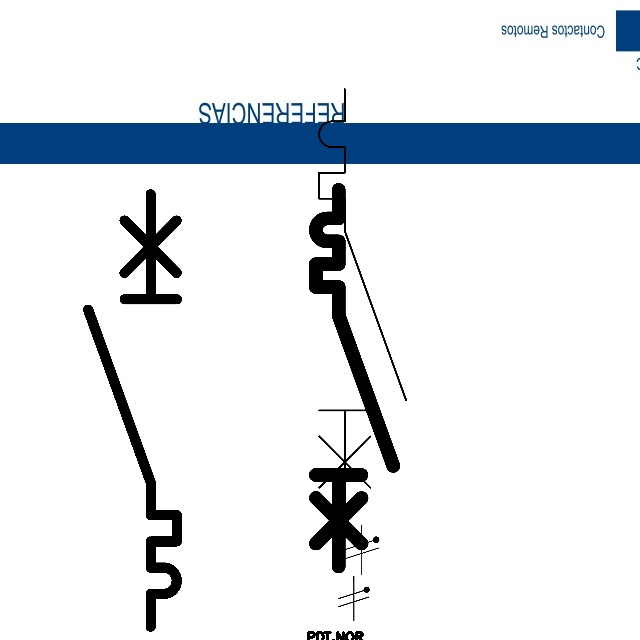interruptor_termomagnetico: (77, 183, 188, 638), (308, 78, 417, 524), (306, 180, 403, 576)
